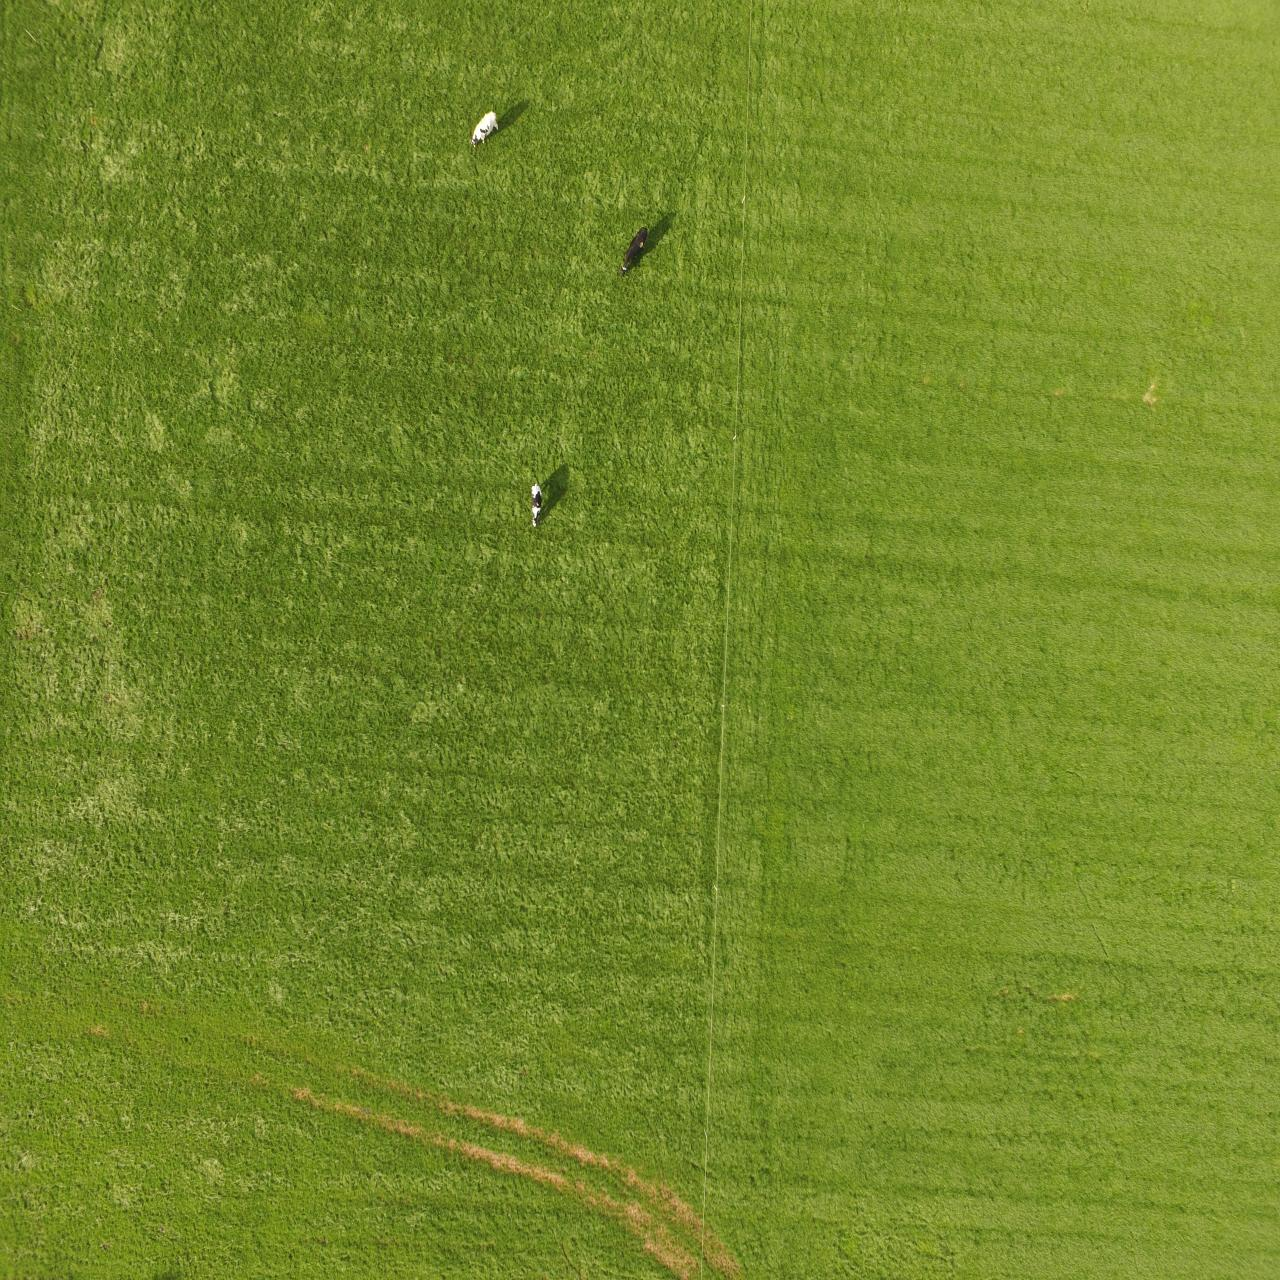cow: (615, 222, 652, 280), (469, 109, 501, 149), (529, 478, 543, 533)
